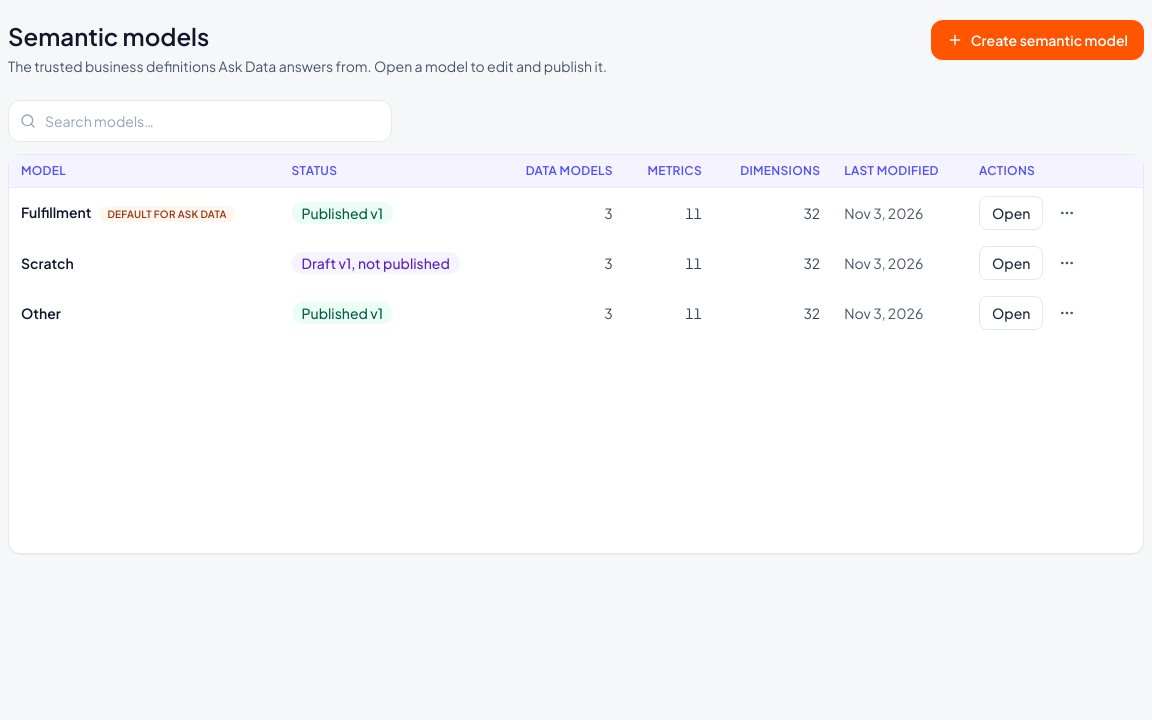
Scenario: Set as default › says so when saving fails and leaves the badge where it was
What coordinates should you click on to do the following:
click the button named "More actions for Other"
I would click on:
 (1067, 313)
Its box is [1051,297,1083,329].
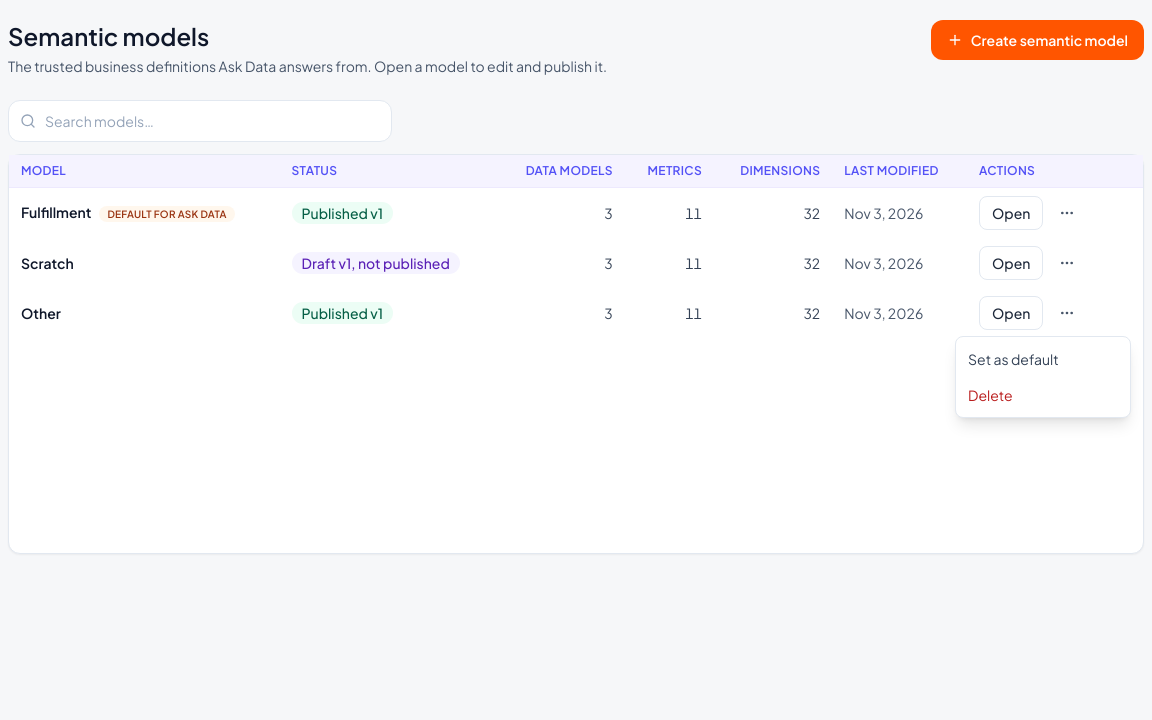
What coordinates should you click on to do the following:
click the menu item "Set as default"
I would click on:
 (1043, 359)
Its box is [956,341,1130,377].
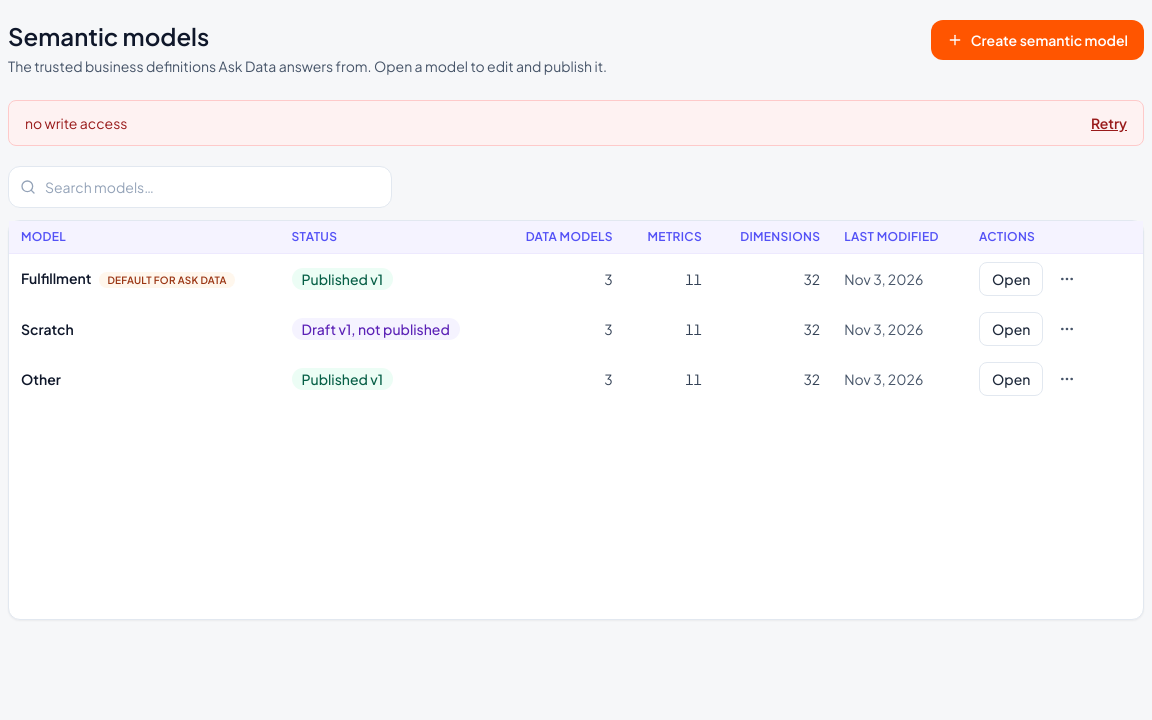
Expected: the text "Default for Ask Data" is shown, [99,272,235,288]
Expected: the message shows "no write access", [25,114,128,132]
